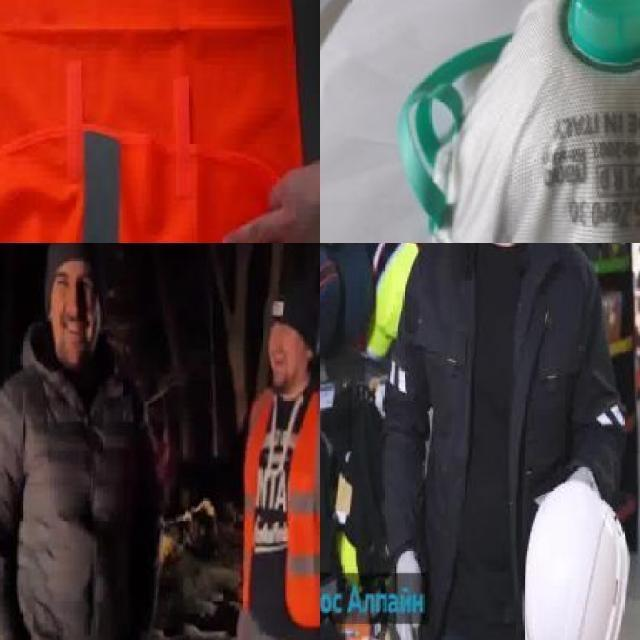apron: (393, 549, 430, 640)
